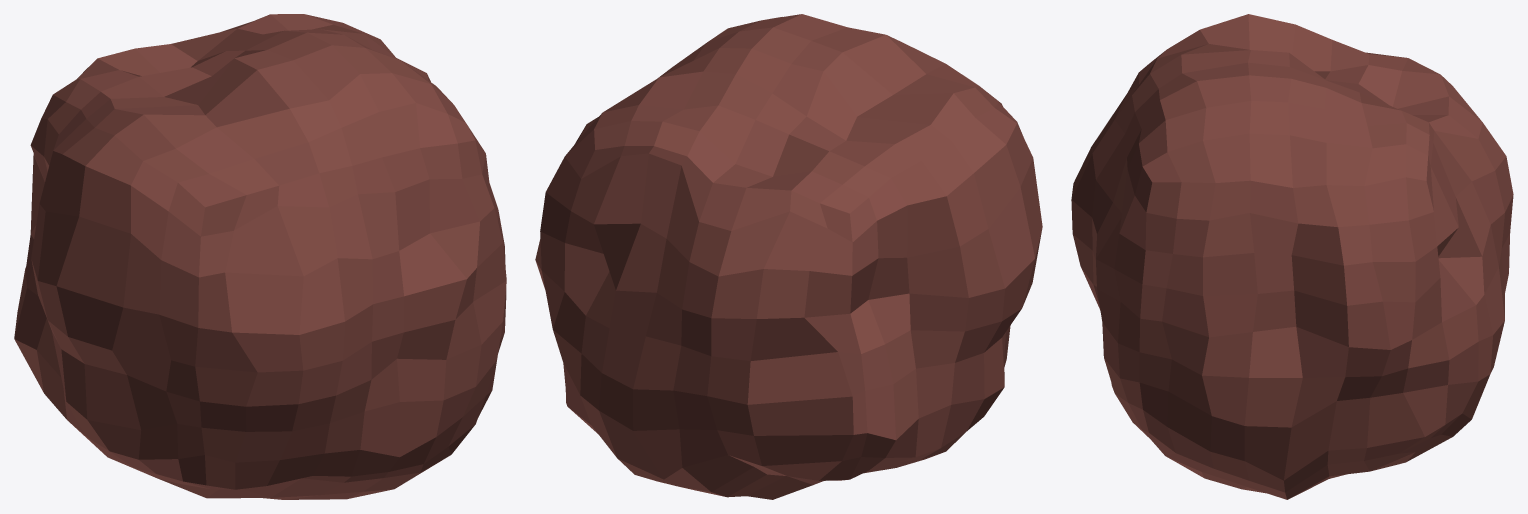
The model's file is meteoro.fbx.
The picture shows the model from 3 angles, left to right: view 1: azimuth 30°, elevation 25°; view 2: azimuth 150°, elevation 25°; view 3: azimuth 270°, elevation 25°; orthographic projection. The views are drawn at different scales.
Parts seen in each view (by area): view 1: Cube; view 2: Cube; view 3: Cube.
Boxes of the visible parts, x1,y1,x2,y2 form: Cube: [14, 14, 506, 499]; Cube: [535, 14, 1042, 499]; Cube: [1071, 14, 1513, 499].
Bounding box in the file's own units: 539 × 524 × 520.
